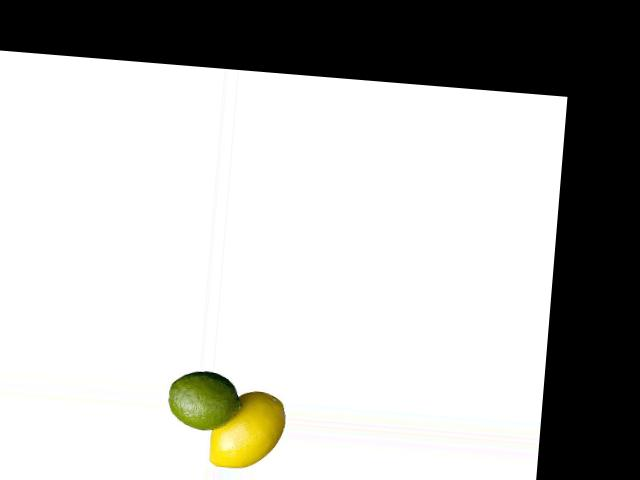lemon: (163, 364, 254, 445)
